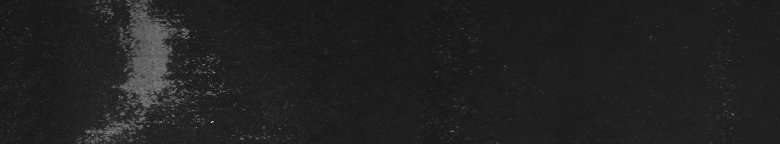kb: (112, 4, 176, 136)
